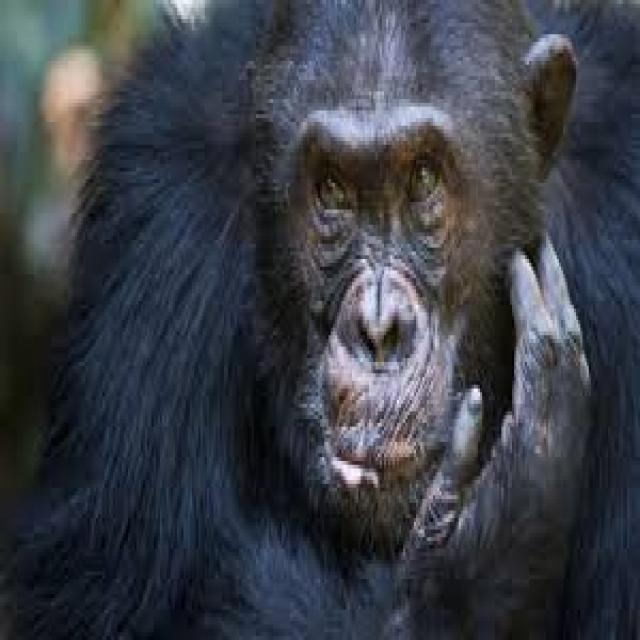Chimpanzee: (104, 3, 640, 640)
